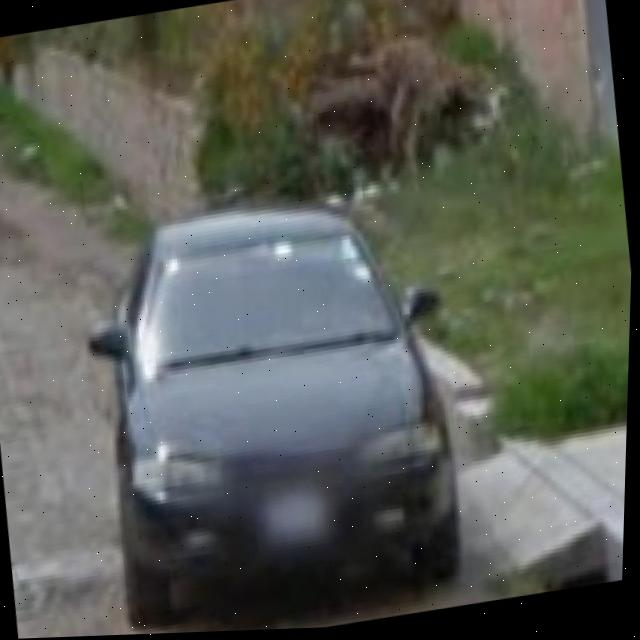vehicle: (73, 177, 478, 620)
